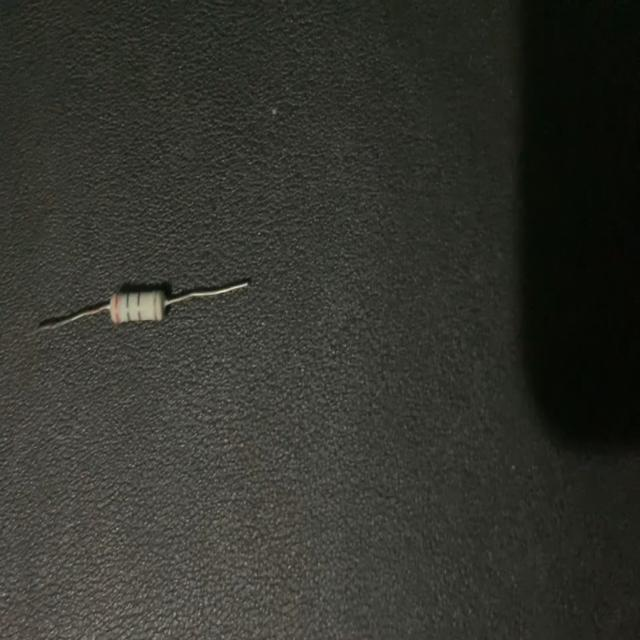resistor: (37, 279, 247, 337)
